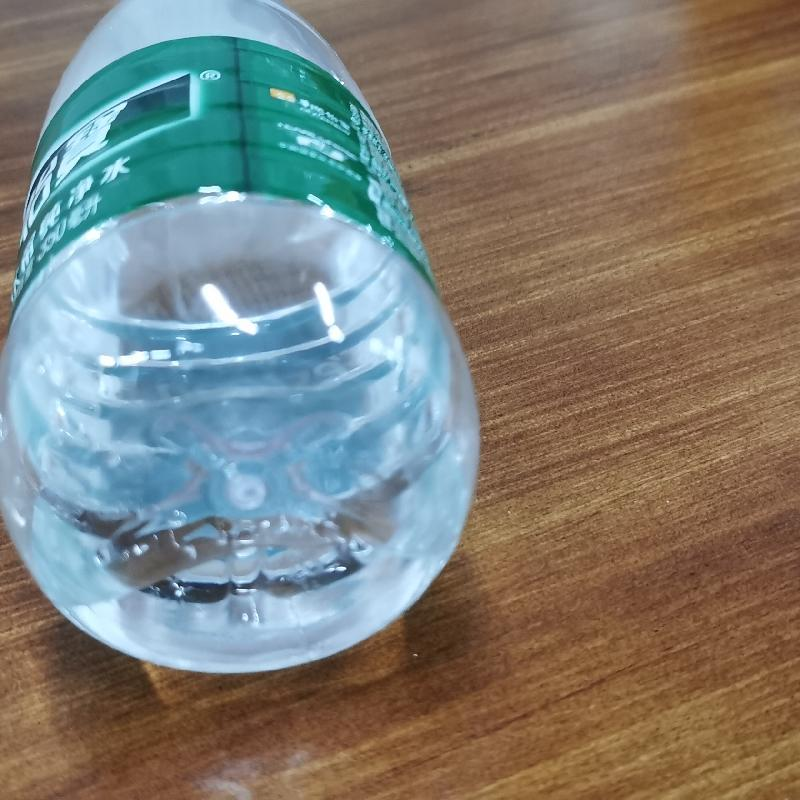bottles: (0, 7, 485, 678)
